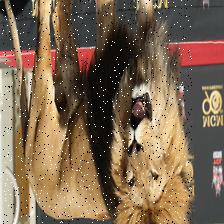Lion: (2, 0, 192, 224)
